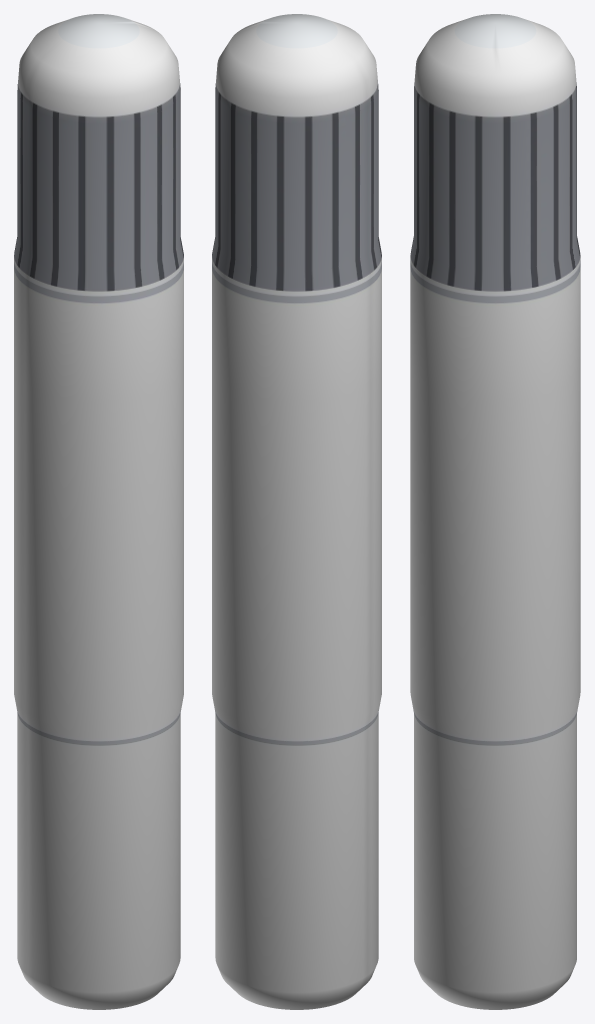
File: royer-r-121.glb
The picture shows the model from 3 angles, left to right: view 1: azimuth 30°, elevation 25°; view 2: azimuth 150°, elevation 25°; view 3: azimuth 270°, elevation 25°; orthographic projection.
Visible parts, largest first — view 1: royer-r-121-body; view 2: royer-r-121-body; view 3: royer-r-121-body.
Boxes of the visible parts, <box> form: royer-r-121-body: <box>14,14,183,1009</box>; royer-r-121-body: <box>212,14,381,1009</box>; royer-r-121-body: <box>410,14,580,1009</box>.
Bounding box in the file's own units: 0.025 × 0.1557 × 0.025.
1 material, 1 textured.
